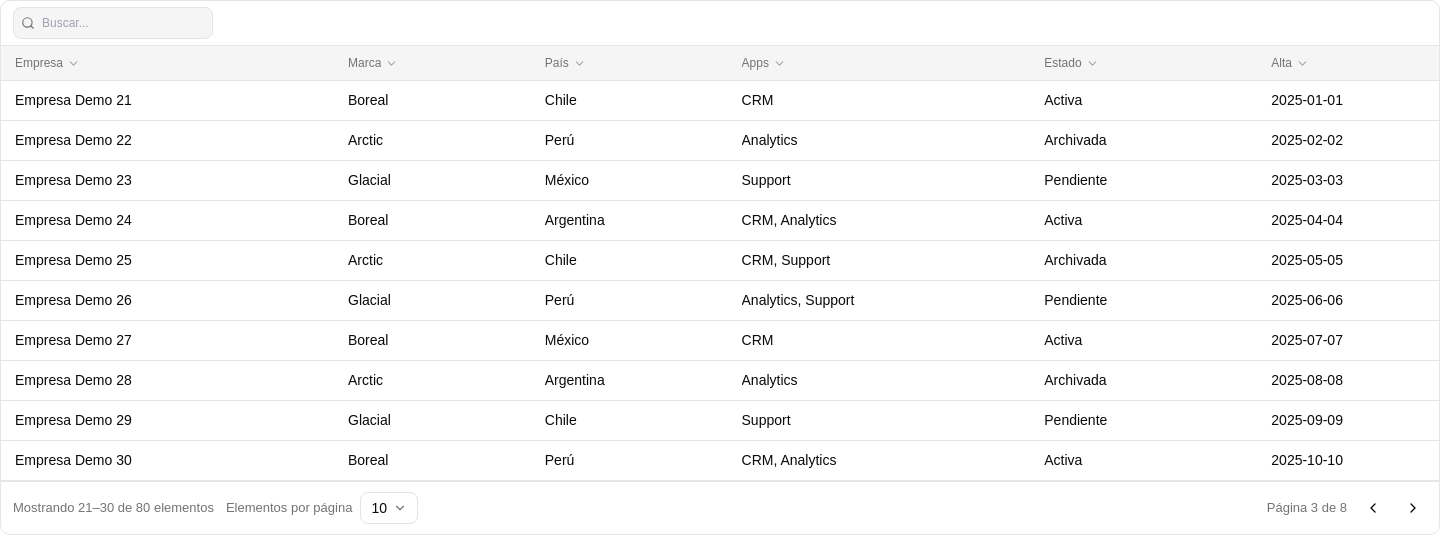
Test: with a controlled page every automatic return to page 1 is reported
The width and height of the screenshot is (1440, 552).
In the search field: (113, 23) [13, 7, 213, 39], type "a"
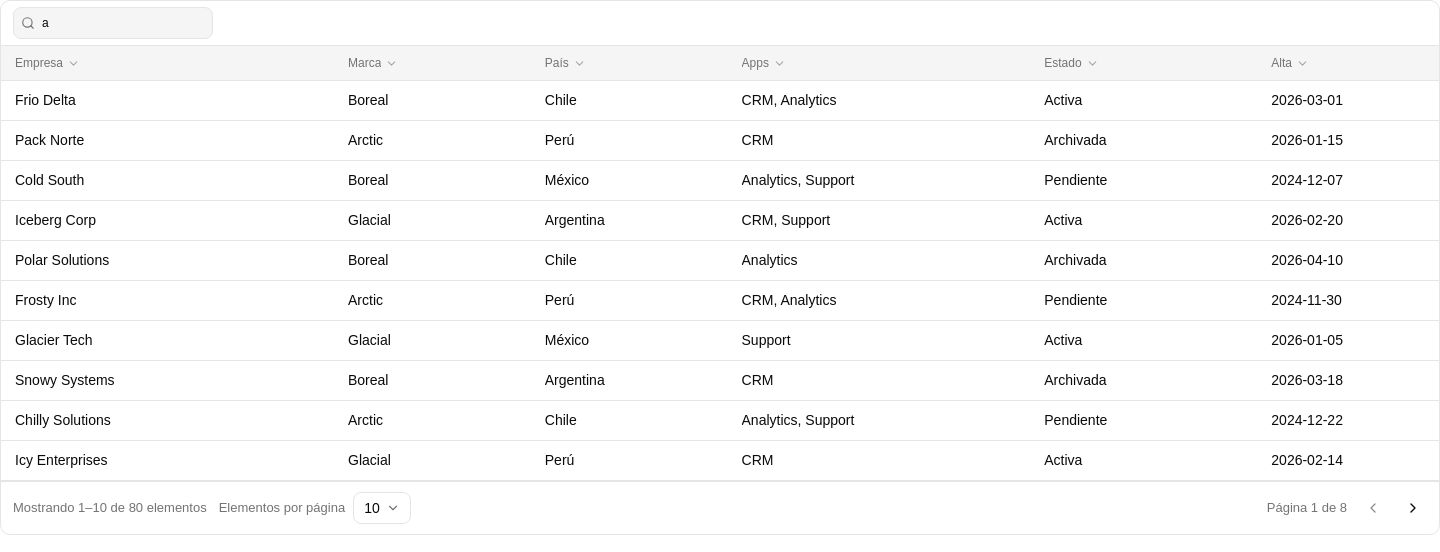
Result: the text with class "gdy-table-pagination-text" shows "Página 1 de" at [1267, 500, 1347, 515]
